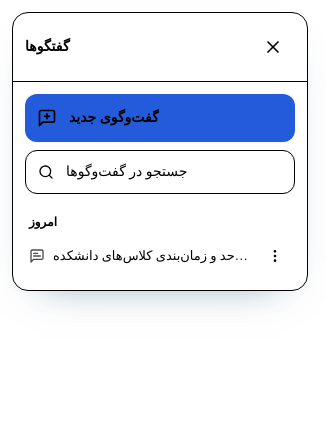
Test: chat workspace navigation › shows grouped history, rename and delete without leaving the conversation panel
The width and height of the screenshot is (326, 427).
Check: the heading "امروز" is shown, box [29,215,57,229]
Check: the button "گفت‌وگوی جدید" is shown, box [25,94,295,142]
Click the button named "گزینه‌های گفتگو" at (275, 256), box [255,236,295,276]
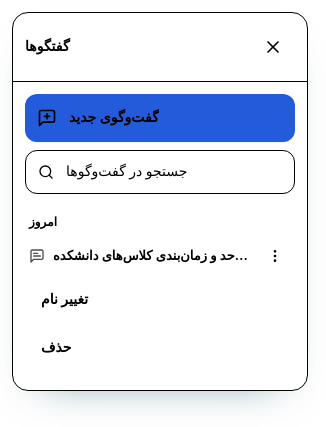
Check: the menu item "تغییر نام" is shown, box [29,278,295,322]
Check: the menu item "حذف" is shown, box [29,326,295,370]
